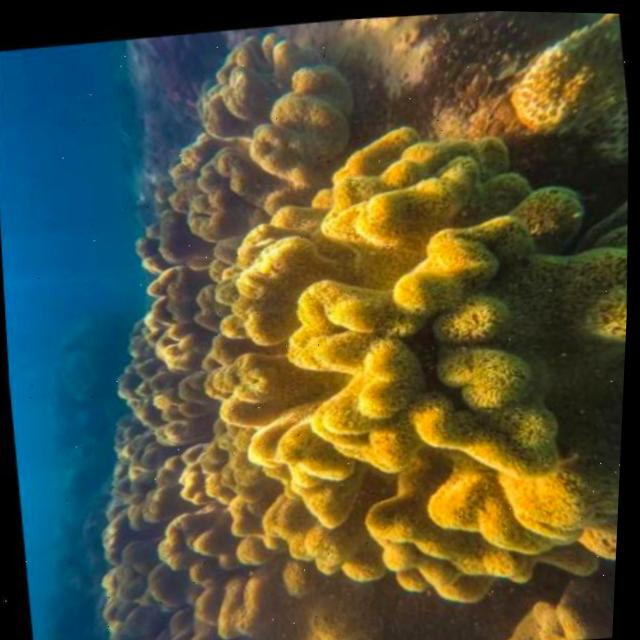Healthy Coral: (155, 31, 639, 637)
